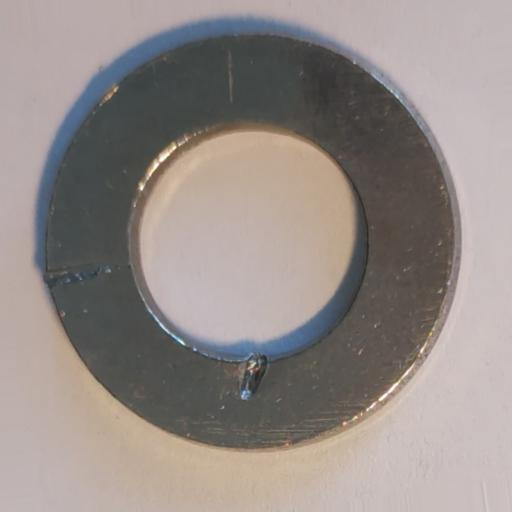scratch: (44, 263, 132, 289), (237, 352, 269, 401)
